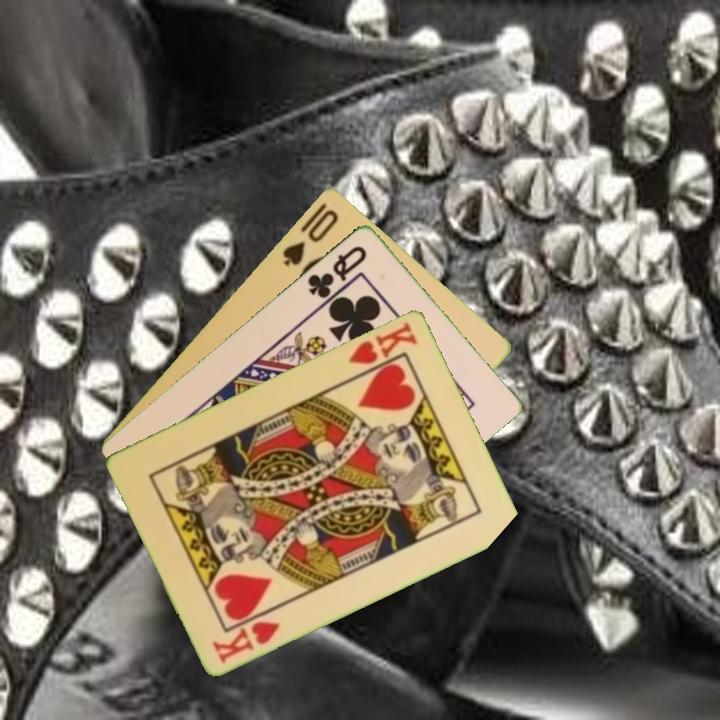10s: (279, 205, 342, 268)
Kh: (345, 318, 421, 380), (208, 616, 284, 666)
Qc: (304, 241, 370, 301)
